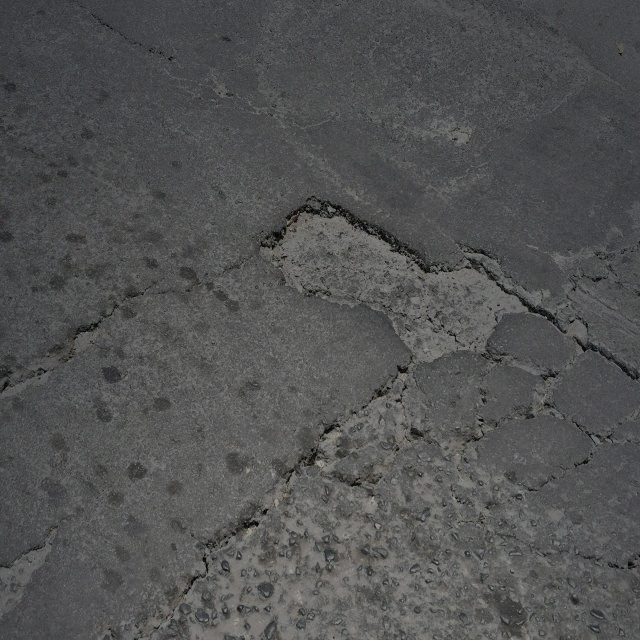pothole: (256, 194, 534, 380), (4, 516, 62, 610), (70, 317, 102, 363), (445, 121, 474, 148), (214, 81, 231, 97)
